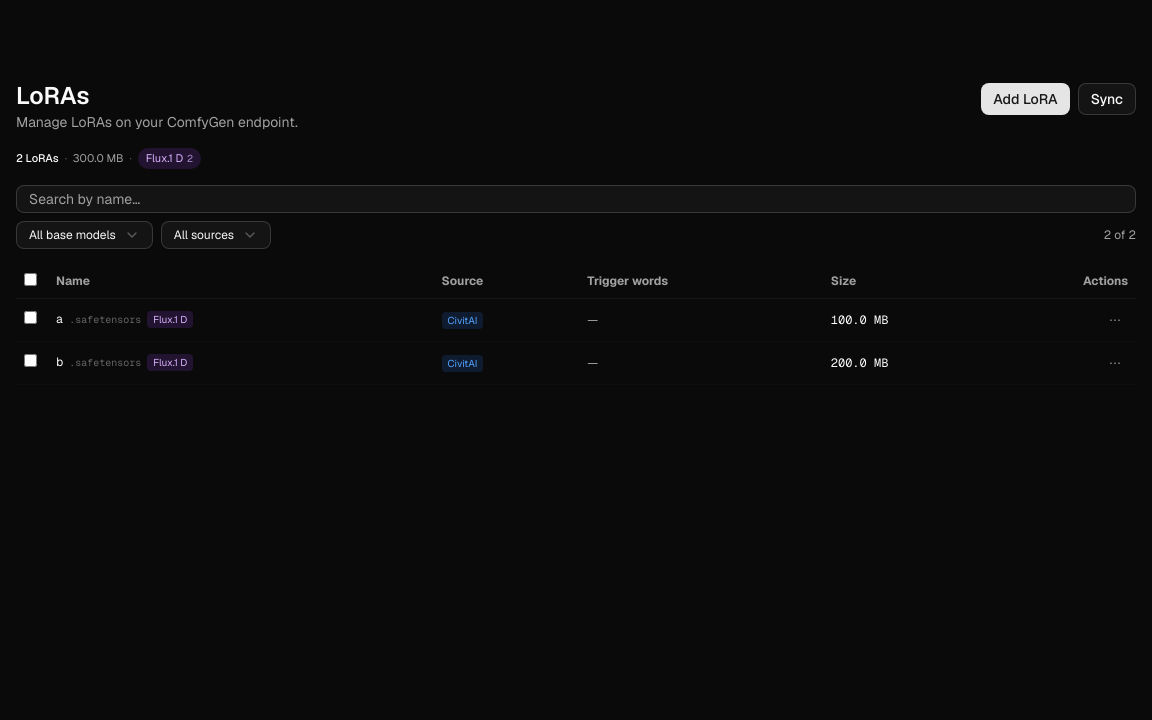
LorasPageBody — bulk delete (AlertDialog) › AlertDialog shows the delete message with summed size for selected rows
What coordinates should you click on to do the following:
click the checkbox named "Select a.safetensors"
I would click on:
 (30, 318)
Its box is [24,311,37,324].
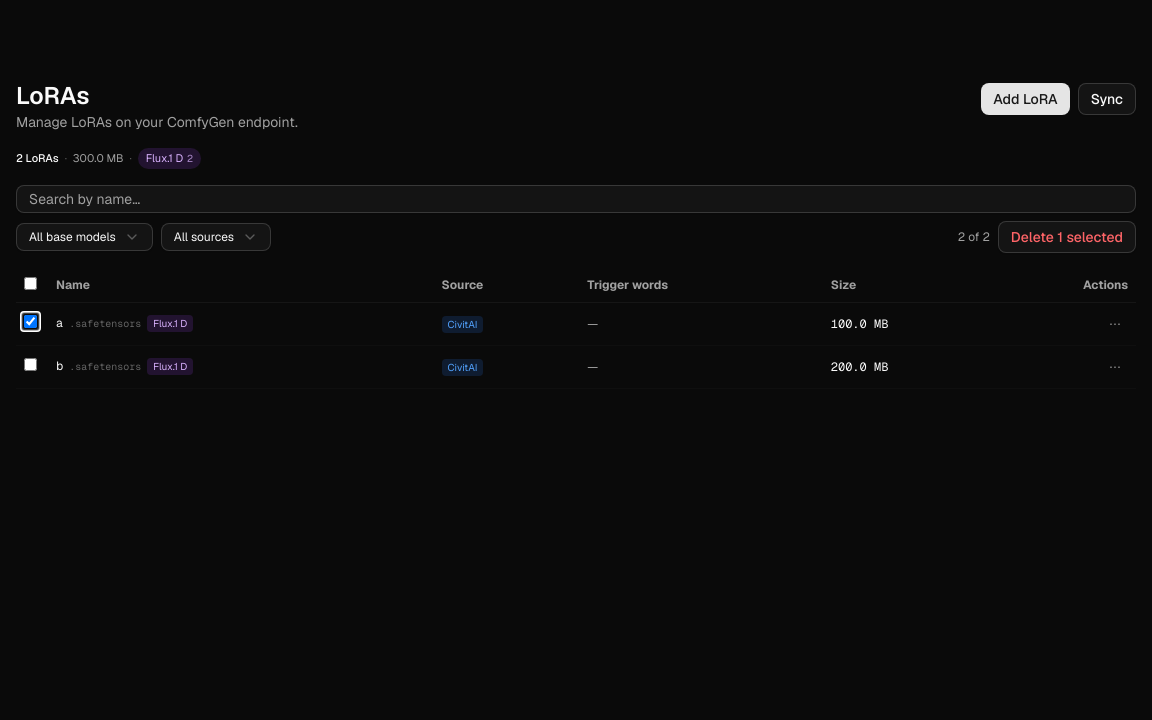
What coordinates should you click on to do the following:
click the checkbox named "Select b.safetensors"
I would click on:
 (30, 364)
Its box is [24,358,37,371].
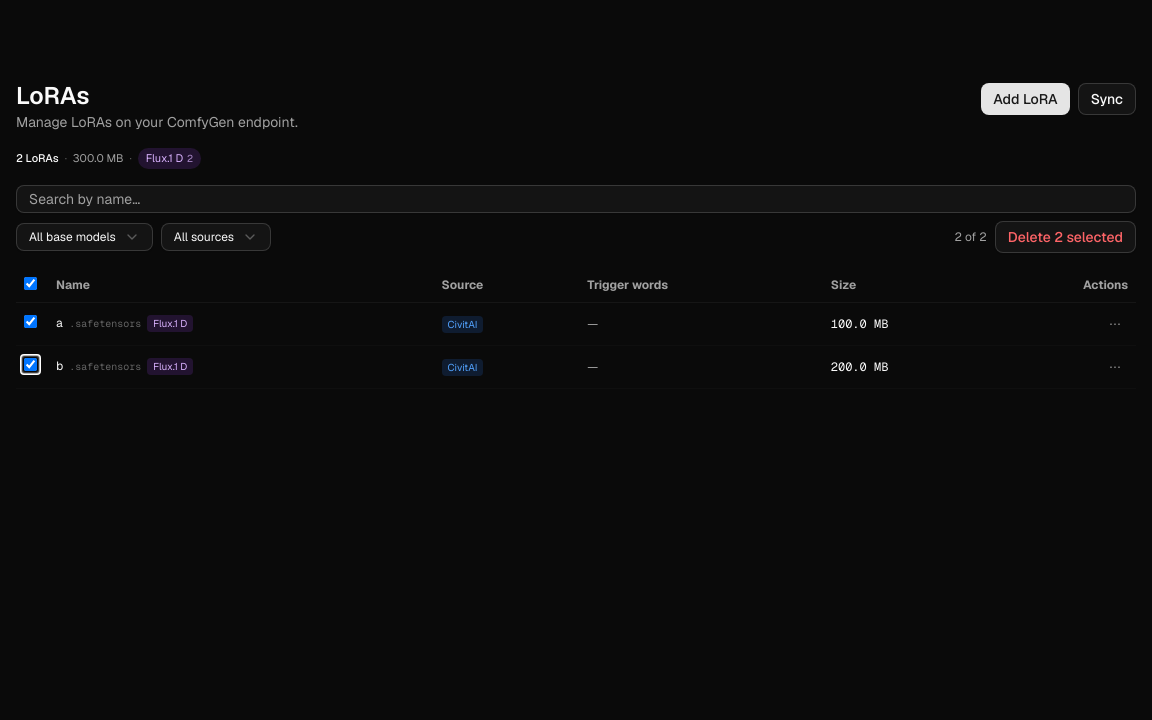
What coordinates should you click on to do the following:
click the button "Delete 2 selected"
I would click on:
 (1065, 236)
Its box is [995,220,1136,252].
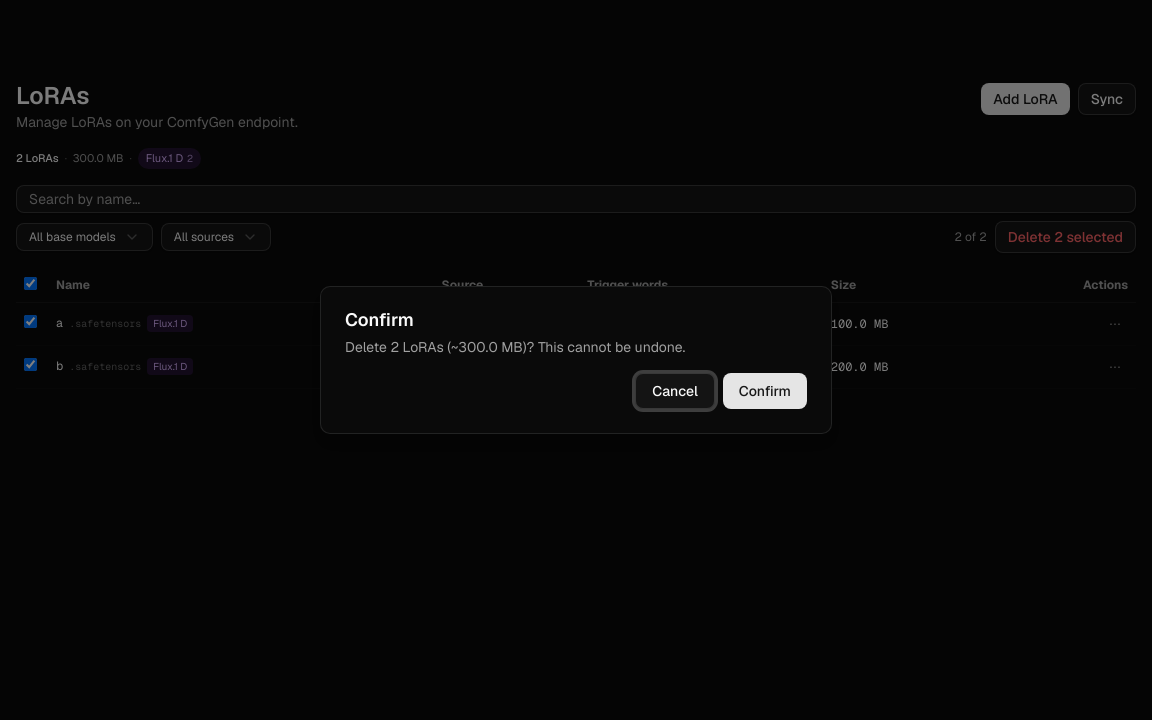
Check: the text "Delete 2 LoRAs (~300.0 MB)? This cannot be undone." is shown, box [345,338,685,356]
